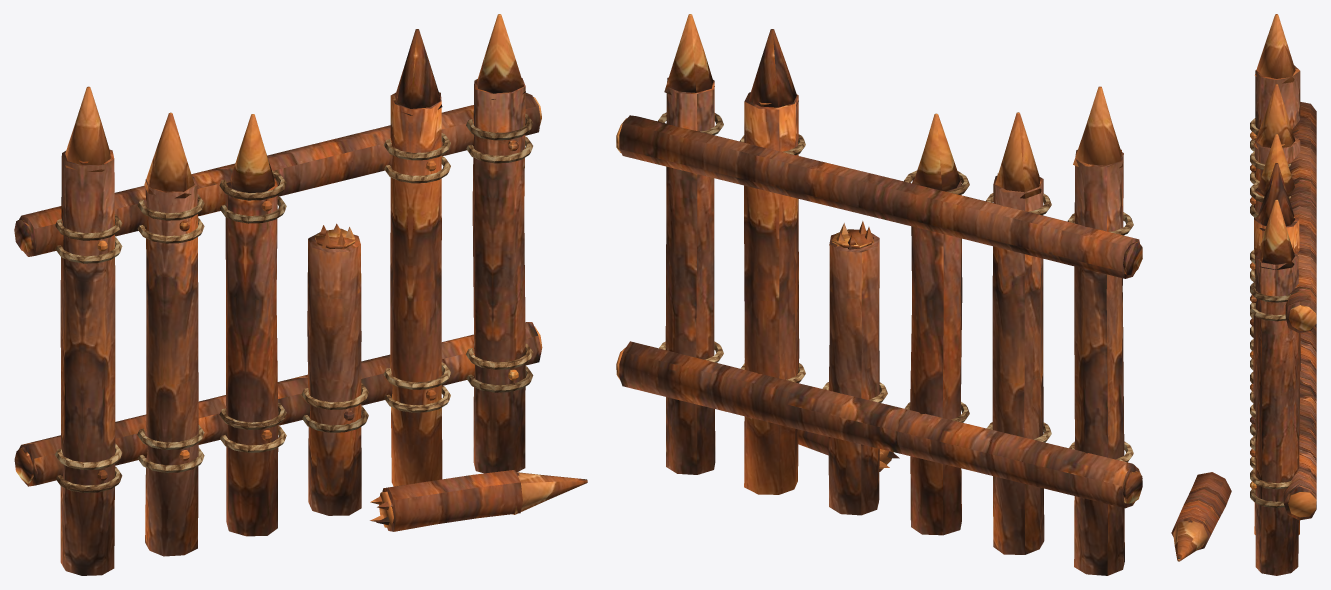
The model's file is ro_palisade_section.glb.
3 views of the same model, side by side, from view 1: azimuth 30°, elevation 25°; view 2: azimuth 150°, elevation 25°; view 3: azimuth 270°, elevation 25° (orthographic). The views are drawn at different scales.
Visible parts, largest first — view 1: model; view 2: model; view 3: model.
Part boxes in pixels (x1=…): model: x1=14, y1=14, x2=587, y2=575; model: x1=616, y1=14, x2=1142, y2=575; model: x1=1171, y1=14, x2=1316, y2=575.
Size of the model in its own units: 1.86 by 1.67 by 0.5645.
Materials: 11 (11 with a texture image).
